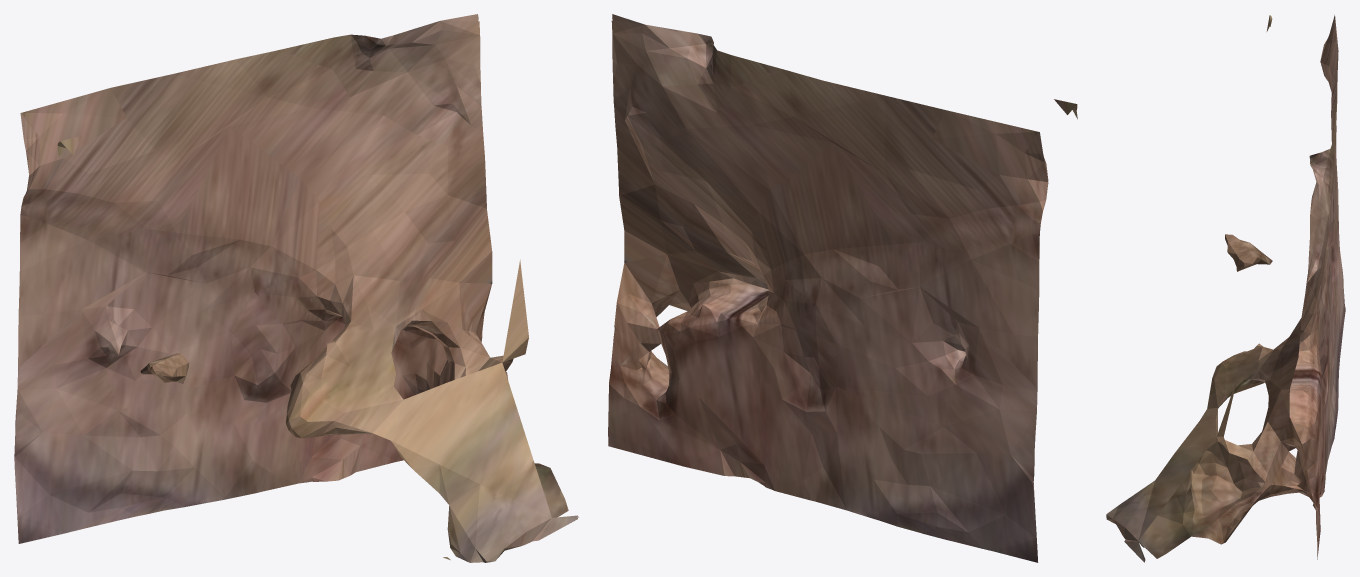
Rendered from tile_12_15.obj.
3 renders of one model, left to right at view 1: azimuth 30°, elevation 25°; view 2: azimuth 150°, elevation 25°; view 3: azimuth 270°, elevation 25°, orthographic. The views are drawn at different scales.
Parts seen in each view (by area): view 1: texture_0; view 2: texture_0; view 3: texture_0.
Part boxes in pixels (x1=…): texture_0: x1=14, y1=14, x2=578, y2=562; texture_0: x1=608, y1=14, x2=1077, y2=562; texture_0: x1=1106, y1=15, x2=1345, y2=562.
Bounding box in the file's own units: 13.88 × 12.92 × 7.66.
1 material, 1 textured.
